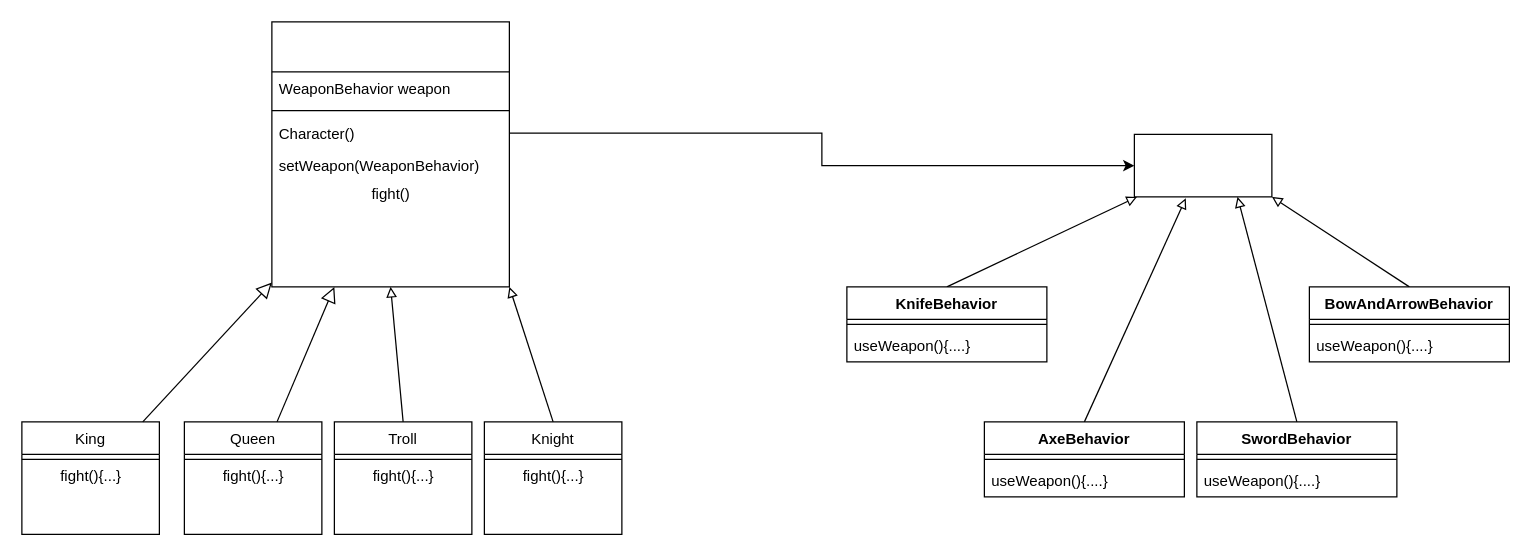
The diagram is 1531 pixels wide and 556 high, and some of its shapes have lost their labels. The box of each missing label's shape, as (x1, y1, x2, y2) in pixels:
{abstract} Character: (271, 21, 509, 287)
«interface» WeaponBehavior: (1133, 133, 1272, 197)
